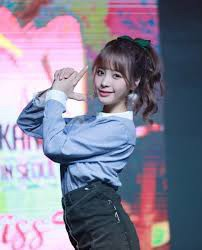people: (71, 37, 152, 250)
